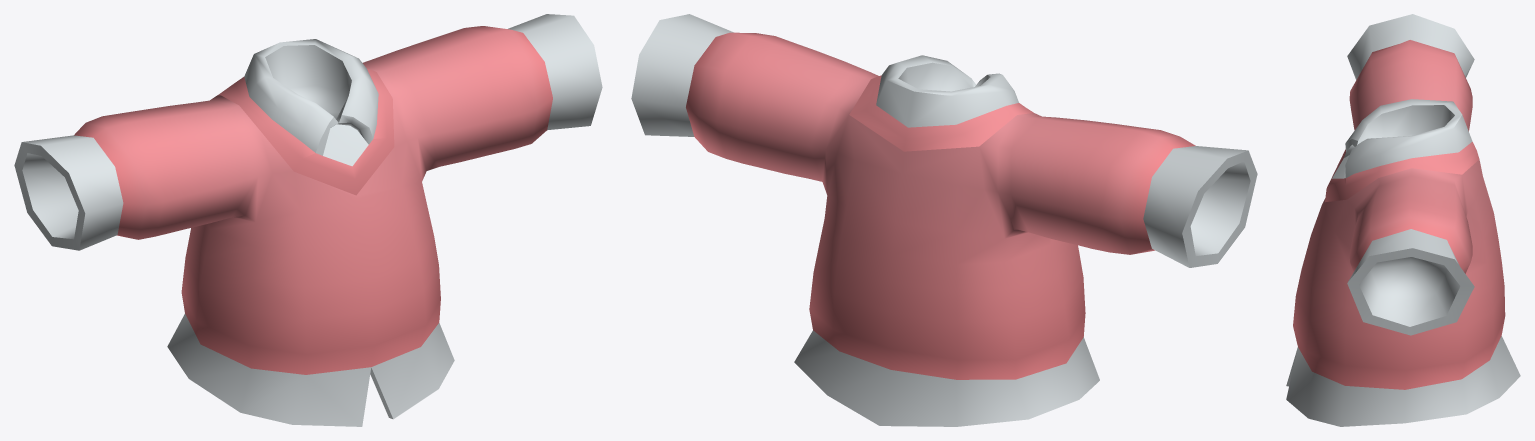
File: Top_45.fbx
3 renders of one model, left to right at view 1: azimuth 30°, elevation 25°; view 2: azimuth 150°, elevation 25°; view 3: azimuth 270°, elevation 25°, orthographic. The views are drawn at different scales.
Visible parts, largest first — view 1: Top_45; view 2: Top_45; view 3: Top_45.
Boxes of the visible parts, bbox=[...] form: Top_45: bbox=[14, 14, 602, 426]; Top_45: bbox=[631, 14, 1257, 426]; Top_45: bbox=[1286, 14, 1520, 426].
Size of the model in its own units: 100 by 55.83 by 42.52.
